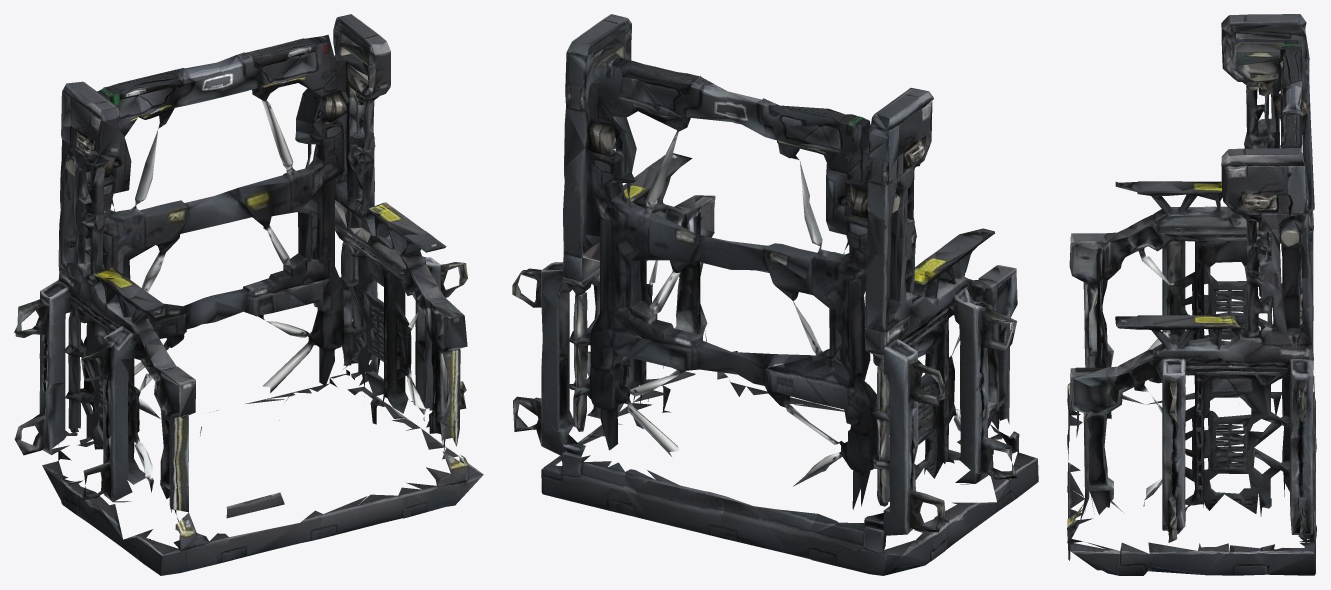
Rendered from hangar_launch_pad_open.glb.
The picture shows the model from 3 angles, left to right: view 1: azimuth 30°, elevation 25°; view 2: azimuth 150°, elevation 25°; view 3: azimuth 270°, elevation 25°; orthographic projection. The views are drawn at different scales.
Parts seen in each view (by area): view 1: pad; view 2: pad; view 3: pad.
Part boxes in pixels (x1,y1,x2,y2): pad: (14,14,483,575); pad: (512,14,1038,575); pad: (1067,14,1316,575).
Bounding box in the file's own units: 0.9786 × 0.9786 × 0.5384.
Materials: 1 (1 with a texture image).
